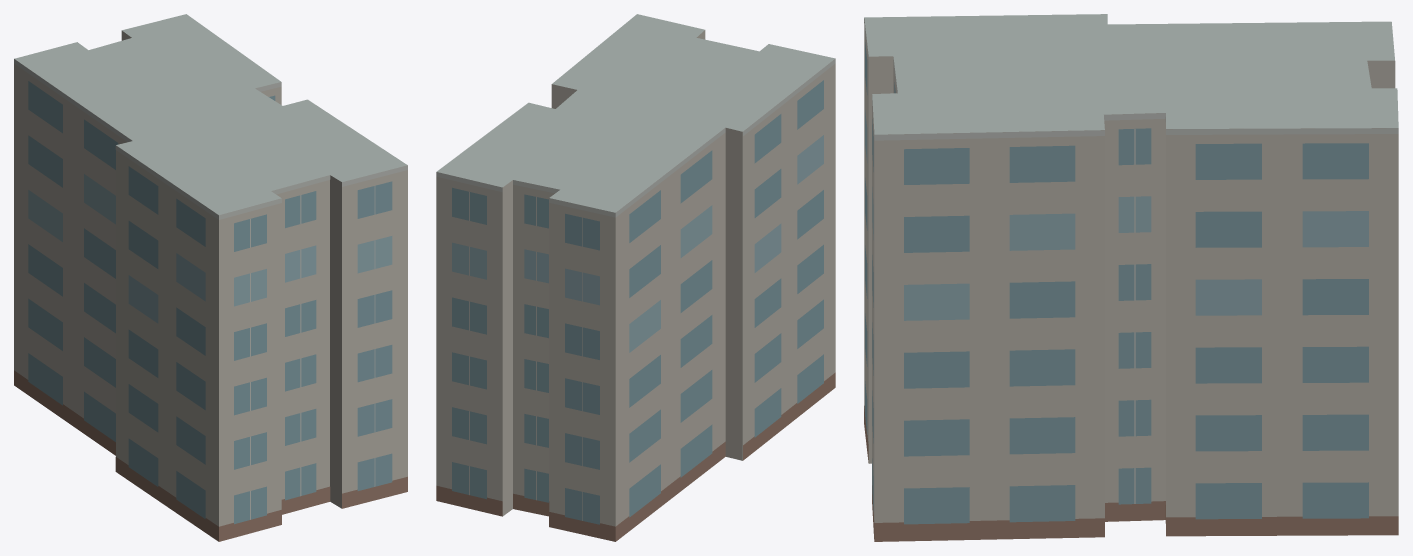
The model's file is survey-upis-32965395.glb.
3 renders of one model, left to right at view 1: azimuth 30°, elevation 25°; view 2: azimuth 150°, elevation 25°; view 3: azimuth 270°, elevation 25°, orthographic. The views are drawn at different scales.
Parts seen in each view (by area): view 1: survey-upis-32965395.tmp; view 2: survey-upis-32965395.tmp; view 3: survey-upis-32965395.tmp.
Boxes of the visible parts, left/top/right/bottom form: survey-upis-32965395.tmp: left=14, top=14, right=407, bottom=541; survey-upis-32965395.tmp: left=436, top=14, right=835, bottom=541; survey-upis-32965395.tmp: left=864, top=14, right=1398, bottom=541.
Bounding box in the file's own units: 10.63 × 16.7 × 19.88.
